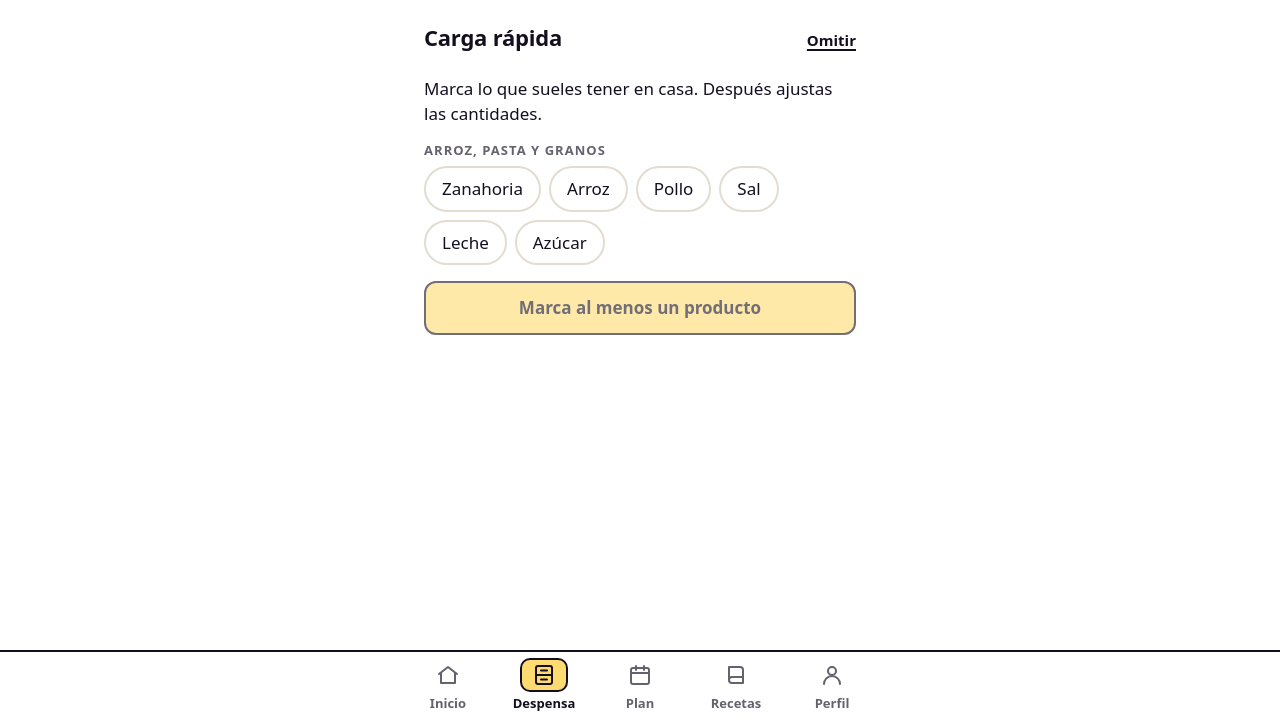
Test: Carga rápida y Todo listo (pantallas 11 y 12) › agrega lo marcado con una cantidad de partida y cierra con el resumen del hogar
Expected: the button "Marca al menos un producto" is disabled, 424,281 -> 856,335
Click the button "Zanahoria" at (482, 189), box 424,166 -> 541,212
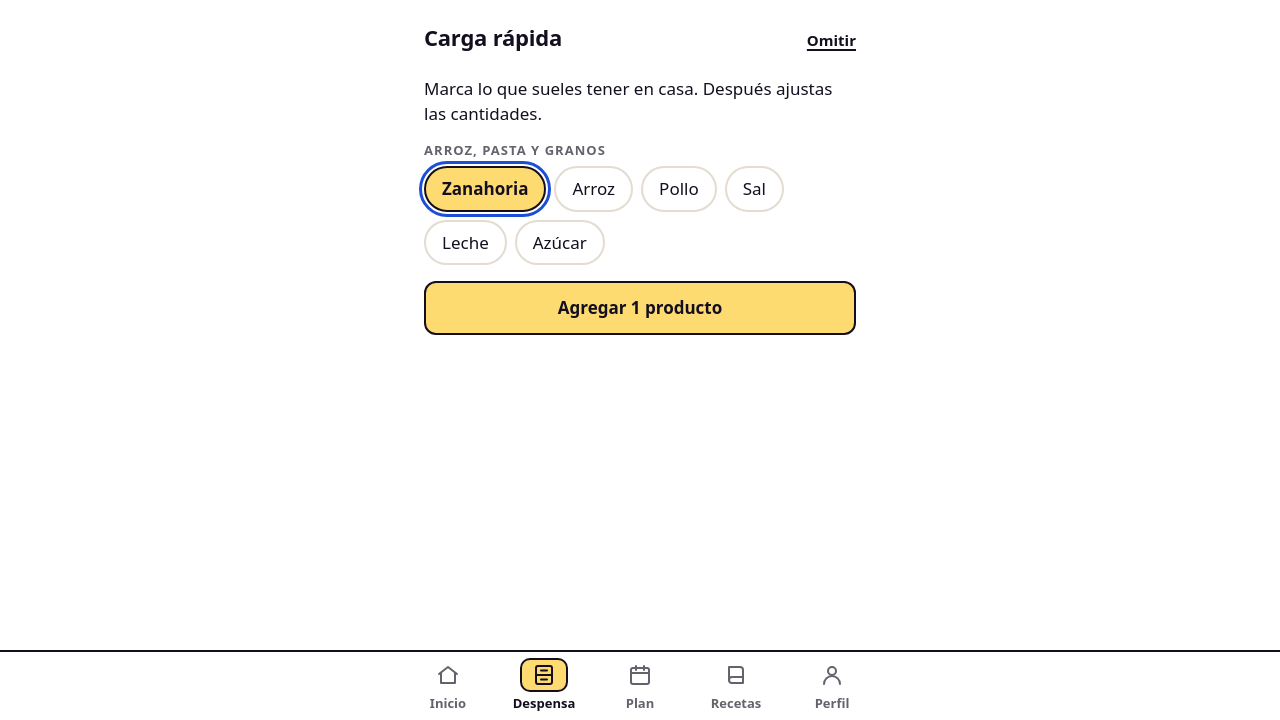
Click the button "Arroz" at (594, 189), box 554,166 -> 633,212
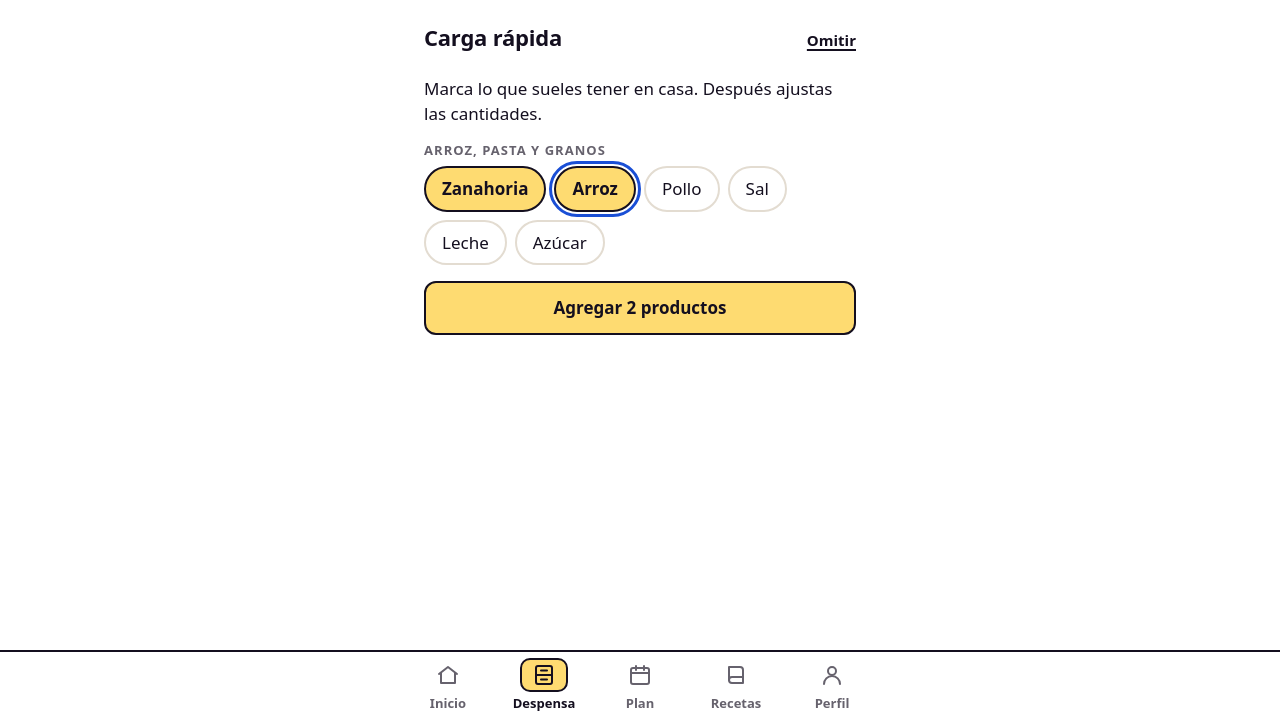
Expected: the button "Zanahoria" is pressed, 424,166 -> 546,212
Click the button "Agregar 2 productos" at (640, 308), box 424,281 -> 856,335
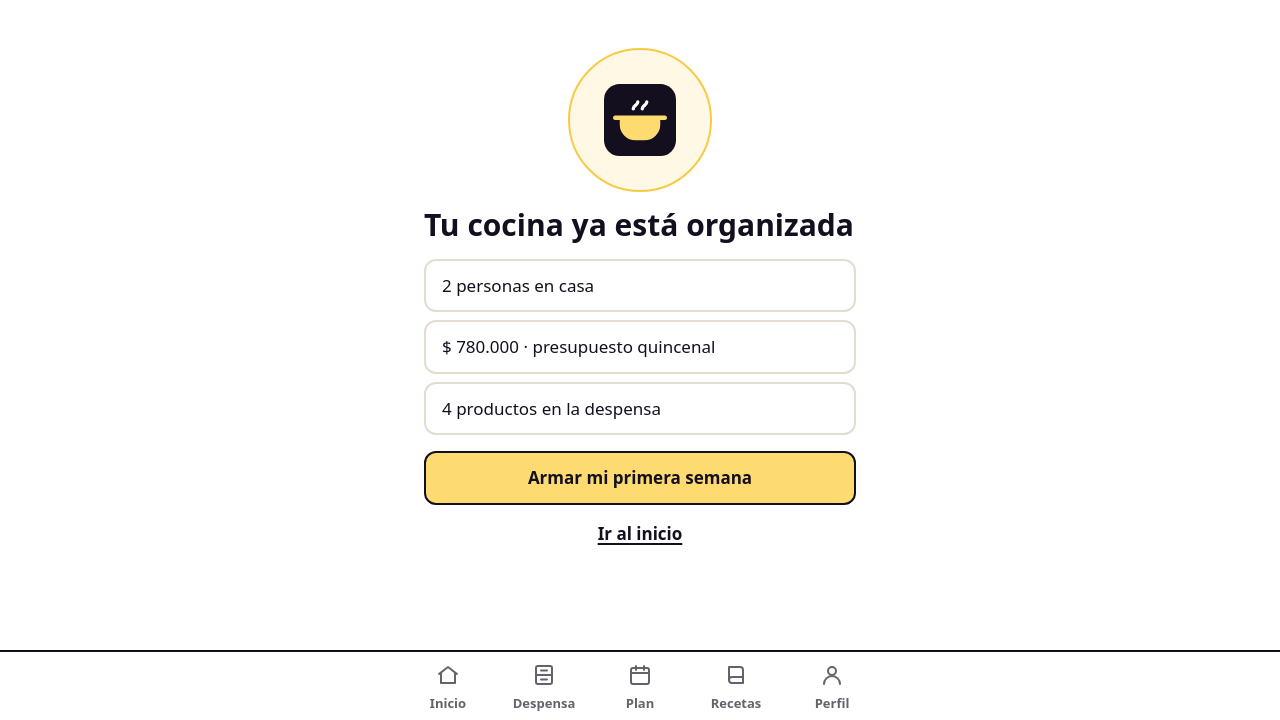
Expected: the heading "Tu cocina ya está organizada" is shown, 424,208 -> 856,242
Expected: the list item "2 personas en casa" is shown, 424,258 -> 856,312
Expected: the list item "$ 780.000 · presupuesto quincenal" is shown, 424,320 -> 856,374
